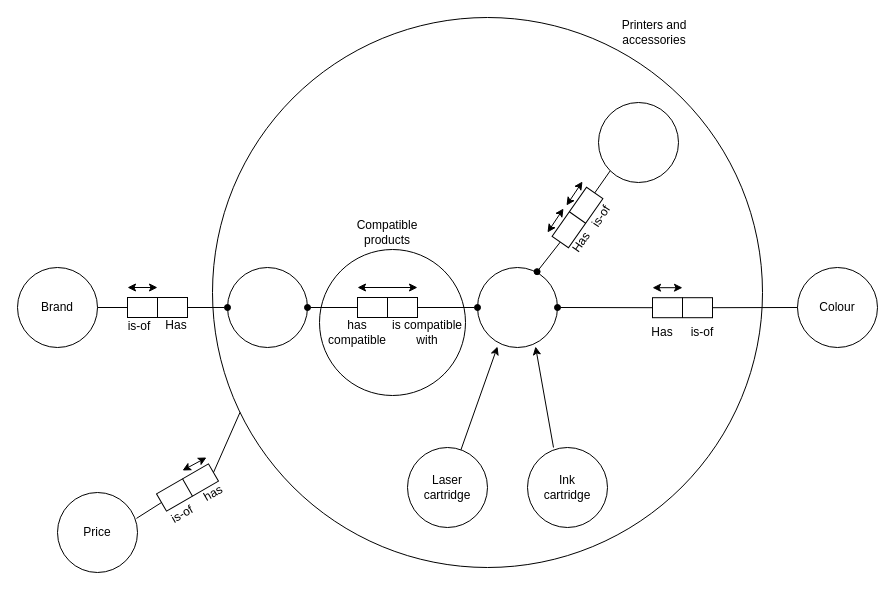
The diagram is 895 pixels wide and 590 high, and some of its shapes have lost their labels. Here are the shapes that lost their labels. From the top down, the centre of each, then its label:
At pixel 638 142: "(cartridge number)".
At pixel 267 307: "Printer".
At pixel 517 307: "Toner cartridges".
